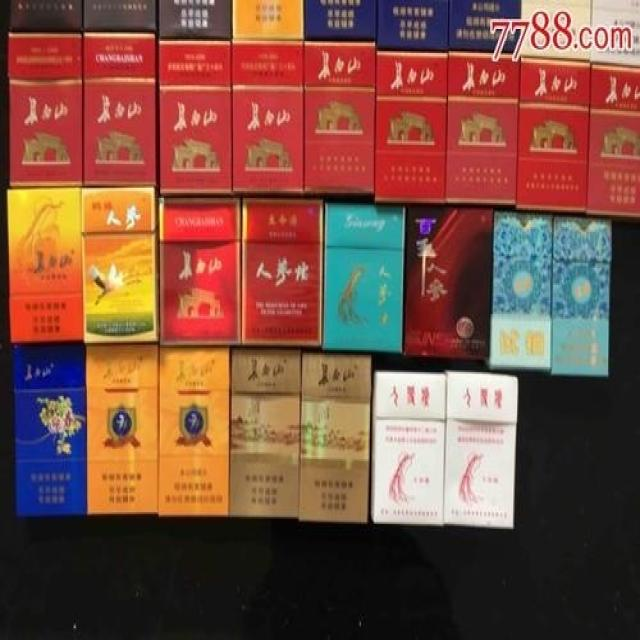box: (403, 205, 493, 362), (298, 350, 372, 524), (84, 345, 159, 514), (323, 203, 407, 353), (156, 346, 230, 515), (13, 343, 86, 514), (228, 346, 301, 517), (159, 195, 242, 345), (242, 195, 324, 346), (6, 186, 83, 345), (82, 188, 159, 345), (443, 370, 518, 531), (370, 372, 447, 526), (157, 38, 232, 195), (9, 29, 83, 188), (82, 32, 157, 186), (445, 53, 520, 207), (516, 56, 590, 212), (232, 39, 305, 195), (375, 49, 448, 203), (303, 41, 375, 195), (489, 212, 554, 372), (552, 215, 612, 377), (585, 61, 640, 218), (518, 0, 591, 61), (448, 0, 521, 55), (376, 0, 449, 53), (590, 0, 640, 68), (232, 0, 305, 41), (303, 0, 376, 41), (156, 0, 232, 39), (82, 0, 157, 32), (9, 0, 82, 32)
